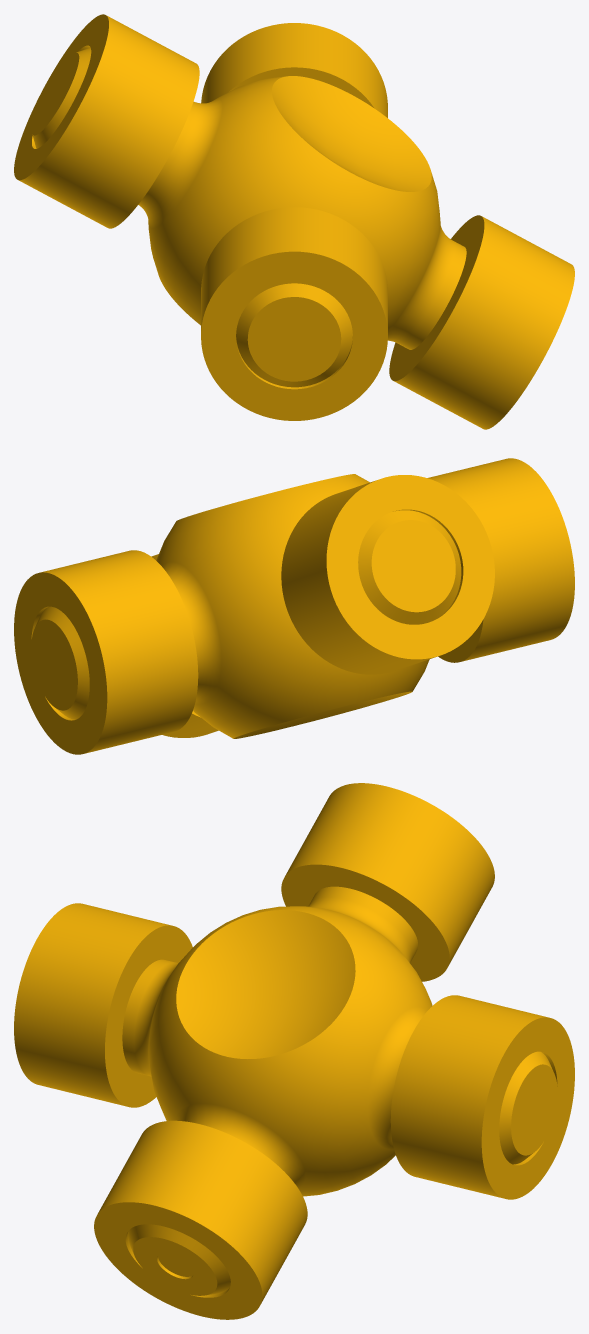
File: croisillion_bas4.dae
3 views of the same model, one above another, from view 1: azimuth 30°, elevation 25°; view 2: azimuth 150°, elevation 25°; view 3: azimuth 270°, elevation 25° (orthographic).
Parts seen in each view (by area): view 1: C0001_0001-2_Croisillon_10; view 2: C0001_0001-2_Croisillon_10; view 3: C0001_0001-2_Croisillon_10.
Boxes of the visible parts, x1=… form: C0001_0001-2_Croisillon_10: x1=14, y1=14, x2=574, y2=429; C0001_0001-2_Croisillon_10: x1=14, y1=458, x2=574, y2=754; C0001_0001-2_Croisillon_10: x1=14, y1=783, x2=574, y2=1319.
Bounding box in the file's own units: 0.0904 × 0.0962 × 0.0746.
